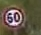limite 60: (2, 5, 26, 29)
